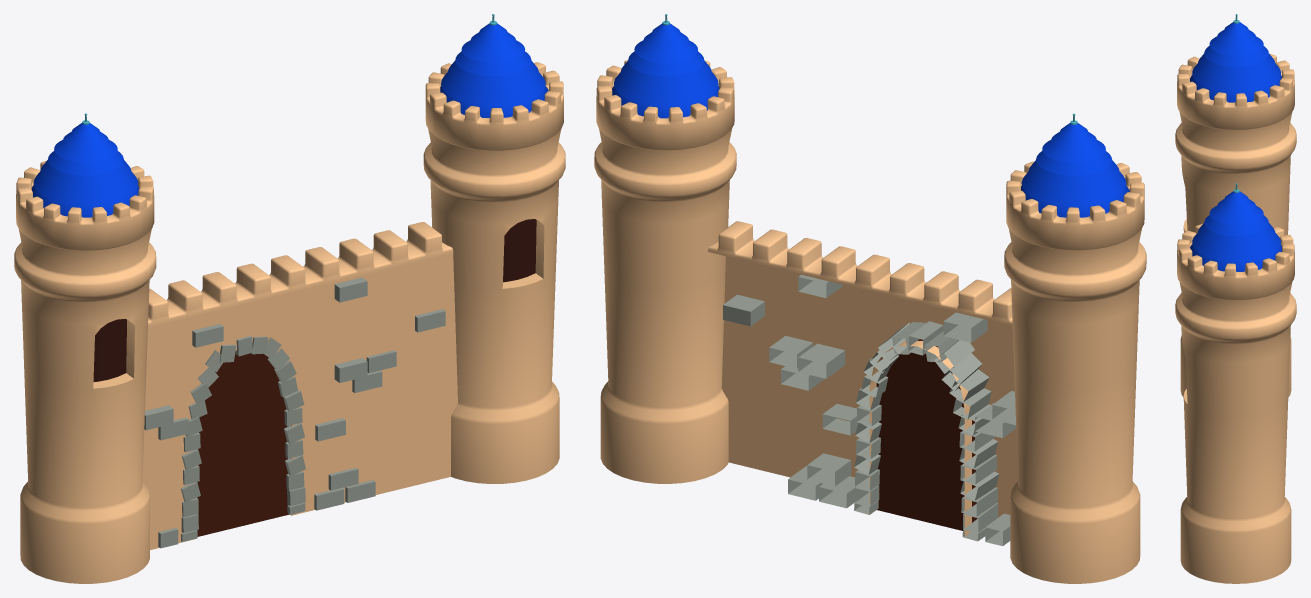
The model's file is Castle_1 (2).fbx.
3 views of the same model, side by side, from view 1: azimuth 30°, elevation 25°; view 2: azimuth 150°, elevation 25°; view 3: azimuth 270°, elevation 25° (orthographic). The views are drawn at different scales.
Visible parts, largest first — view 1: Wall, Colon_L, Colon_R, Door; view 2: Wall, Colon_L, Colon_R, Door; view 3: Colon_R, Colon_L.
Boxes of the visible parts, box(x1,y1,x2,y2) form: Wall: box(142, 222, 457, 549); Colon_L: box(14, 113, 156, 583); Colon_R: box(423, 14, 565, 483); Door: box(197, 352, 288, 536); Wall: box(708, 221, 1017, 546); Colon_L: box(1004, 113, 1146, 583); Colon_R: box(594, 14, 736, 483); Door: box(876, 339, 977, 530); Colon_R: box(1175, 183, 1296, 583); Colon_L: box(1175, 14, 1296, 397).
Bounding box in the file's own units: 129 × 29.8 × 102.
